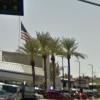Palm tree: (22, 24, 84, 87)
